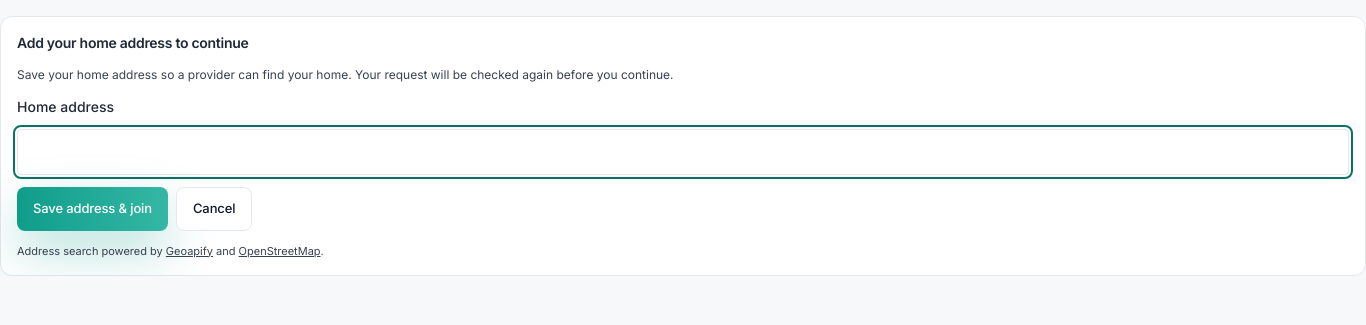
Test case: home address completion › refuses unverified/unrouteable geocoding results: null
In the field labelled "Home address": coordinates (683, 152) [17, 128, 1349, 174], type "1 Oak St"
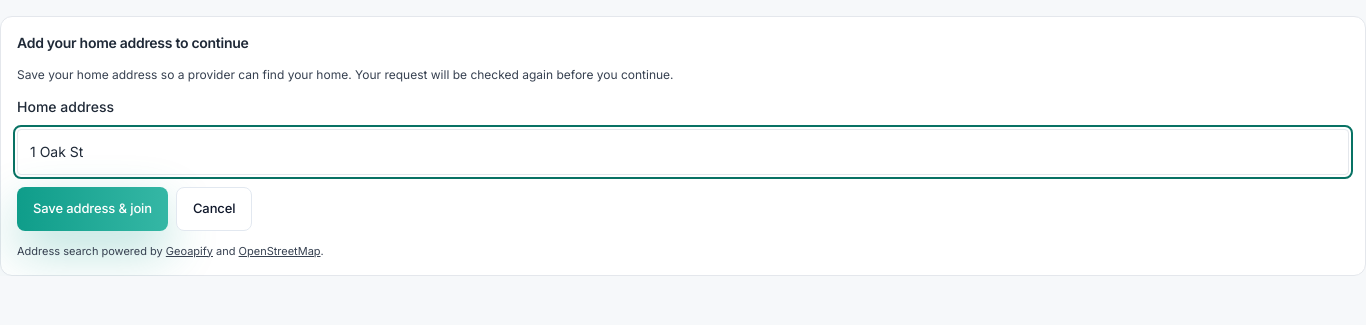
Submit the form "Add your home address to continue"
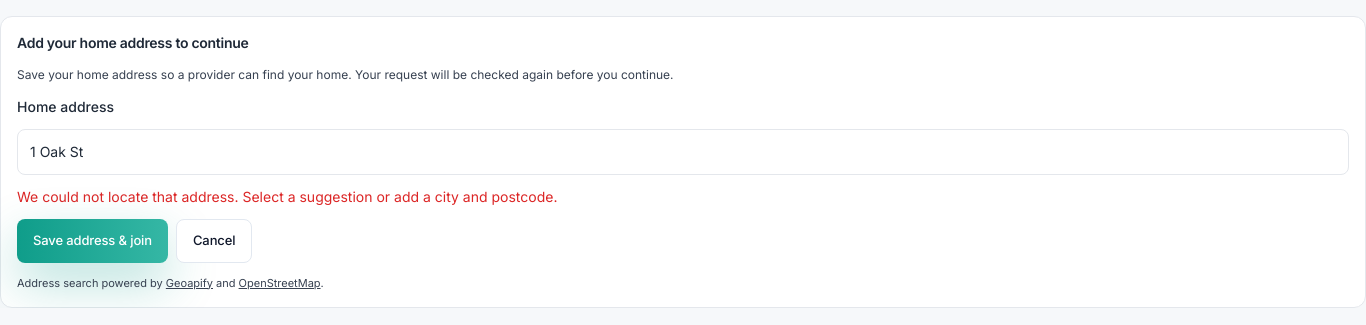
Result: the message is shown at [17, 188, 557, 204]
